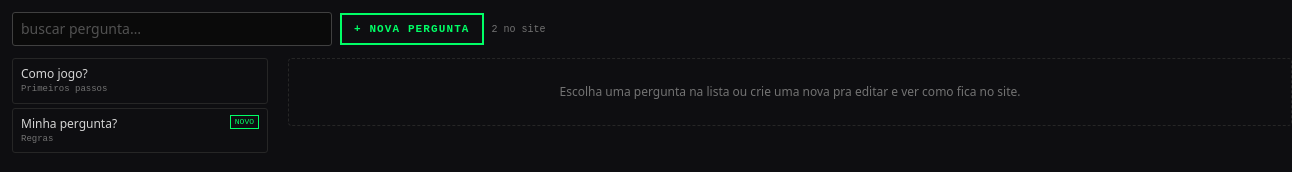
Test: EditorConteudo › busca filtra a lista
Type "minha" into the field labelled "buscar pergunta".
click(172, 29); type("minha")  # box [12,12,332,46]
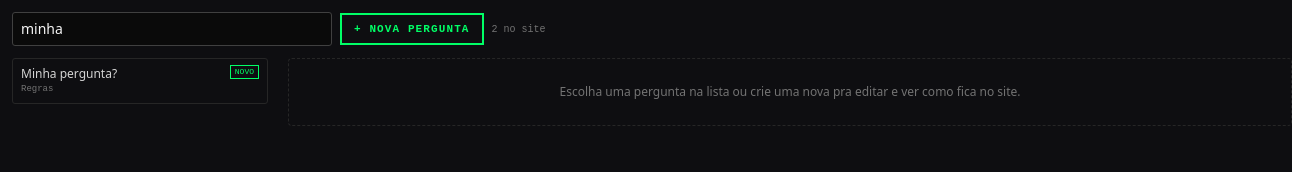
Expected: the text "Minha pergunta?" is shown, [21,65,117,82]
Expected: the button "Como jogo?" is gone
